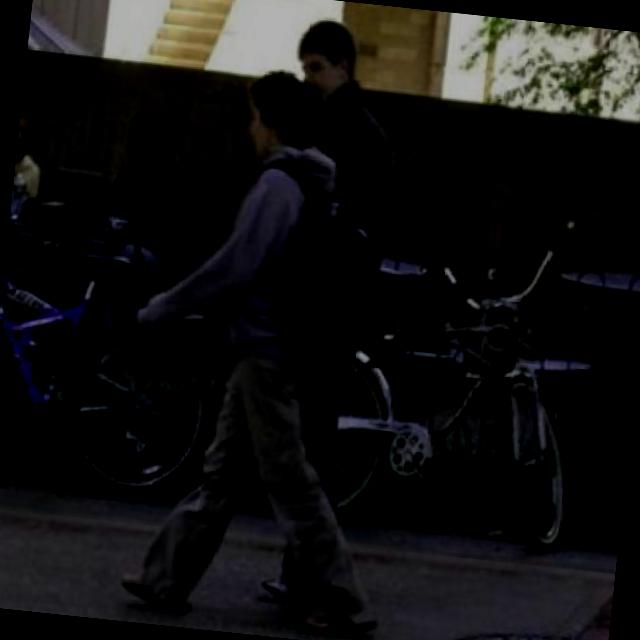Person: (103, 56, 432, 640), (284, 12, 419, 237), (99, 105, 206, 256), (10, 98, 55, 226)
